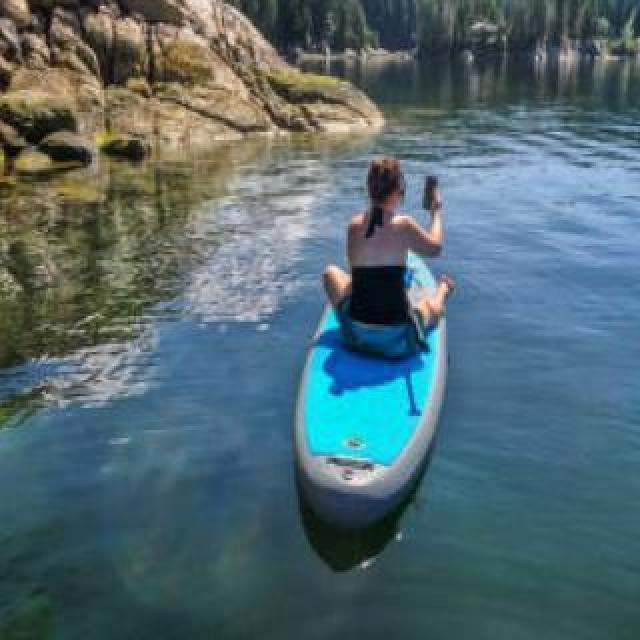kayak: (295, 307, 448, 528)
